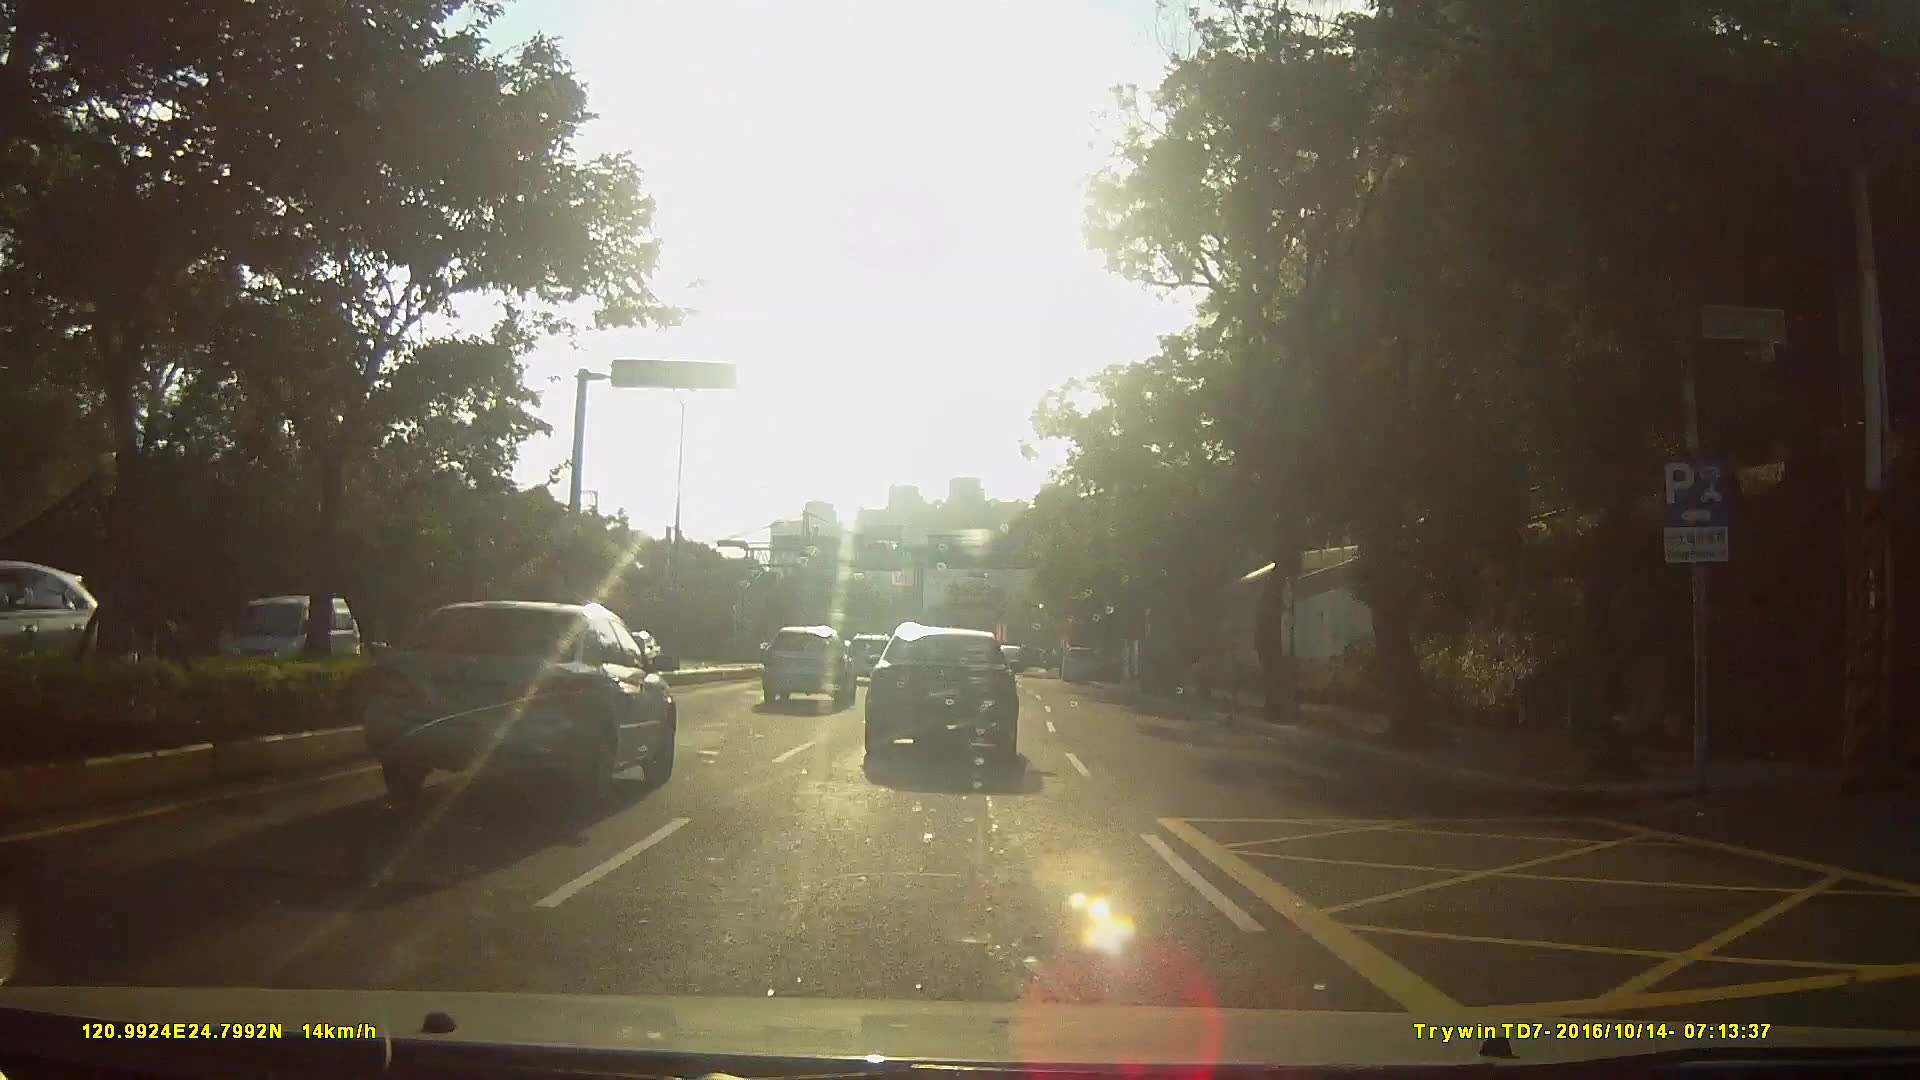vehicle: (364, 596, 676, 811), (865, 620, 1044, 767), (1, 558, 103, 704), (220, 593, 365, 695), (756, 626, 856, 713), (843, 632, 897, 684), (1060, 647, 1102, 686)
